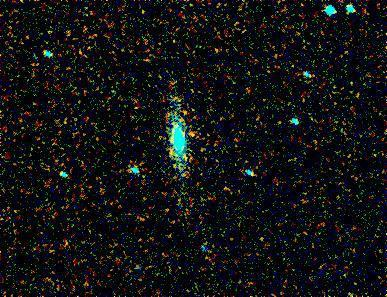star: (176, 119, 206, 149)
